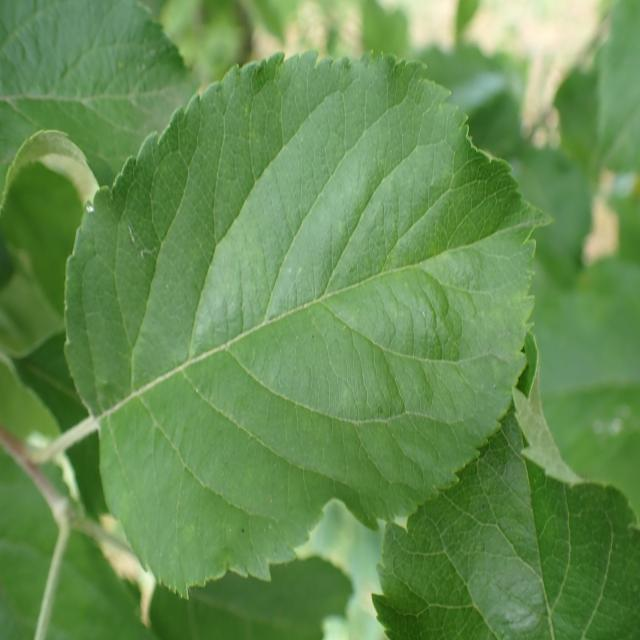healthy: (64, 47, 556, 600), (369, 334, 640, 639), (0, 0, 198, 189)
